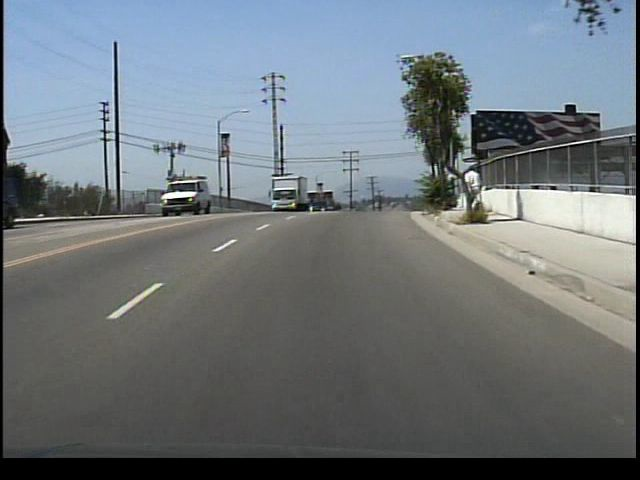person: (461, 162, 486, 221)
